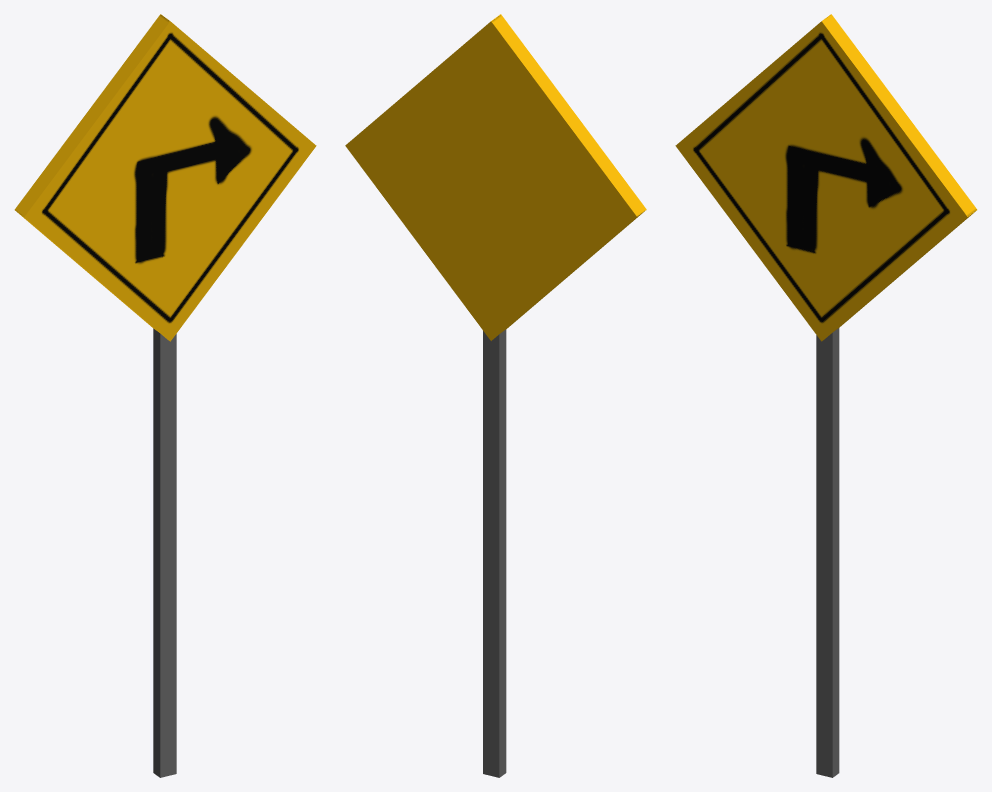
Rendered from Turn sign.glb.
3 renders of one model, left to right at view 1: azimuth 30°, elevation 25°; view 2: azimuth 150°, elevation 25°; view 3: azimuth 330°, elevation 25°, orthographic.
Visible parts, largest first — view 1: Cube.002, Cube.001; view 2: Cube.002, Cube.001; view 3: Cube.002, Cube.001.
Boxes of the visible parts, x1=… form: Cube.002: x1=14, y1=14, x2=316, y2=341; Cube.001: x1=153, y1=328, x2=176, y2=777; Cube.002: x1=345, y1=14, x2=646, y2=340; Cube.001: x1=483, y1=329, x2=506, y2=777; Cube.002: x1=675, y1=14, x2=977, y2=341; Cube.001: x1=816, y1=328, x2=839, y2=777.
Size of the model in its own units: 0.3458 by 0.8554 by 0.0202.
Materials: 2 (1 with a texture image).
